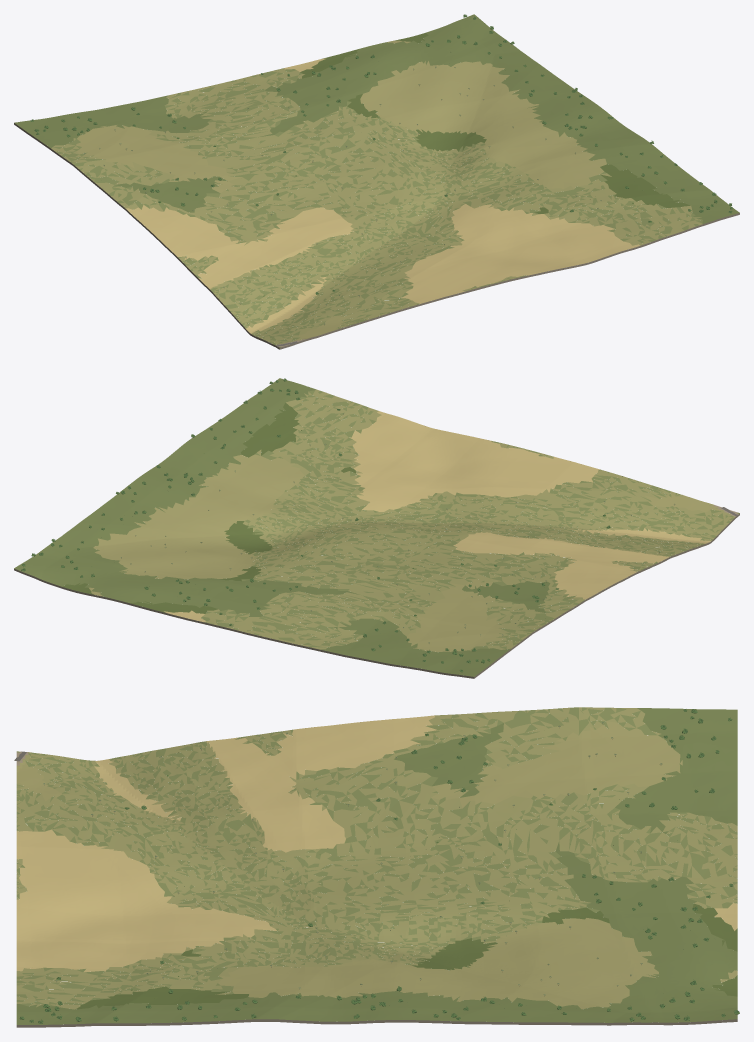
File: parca_+1_-8-yakin.glb
The picture shows the model from 3 angles, top to bottom: view 1: azimuth 30°, elevation 25°; view 2: azimuth 150°, elevation 25°; view 3: azimuth 270°, elevation 25°; orthographic projection. The views are drawn at different scales.
Visible parts, largest first — view 1: parca_+1_-8_arazi, parca_+1_-8_bitkiler; view 2: parca_+1_-8_arazi, parca_+1_-8_bitkiler; view 3: parca_+1_-8_arazi, parca_+1_-8_bitkiler.
Part boxes in pixels (x1=…): parca_+1_-8_arazi: x1=14, y1=14, x2=739, y2=349; parca_+1_-8_bitkiler: x1=30, y1=14, x2=732, y2=324; parca_+1_-8_arazi: x1=14, y1=378, x2=739, y2=678; parca_+1_-8_bitkiler: x1=21, y1=378, x2=696, y2=672; parca_+1_-8_arazi: x1=16, y1=707, x2=737, y2=1027; parca_+1_-8_bitkiler: x1=17, y1=709, x2=739, y2=1023.
Size of the model in its own units: 1004 by 90.68 by 1007.
